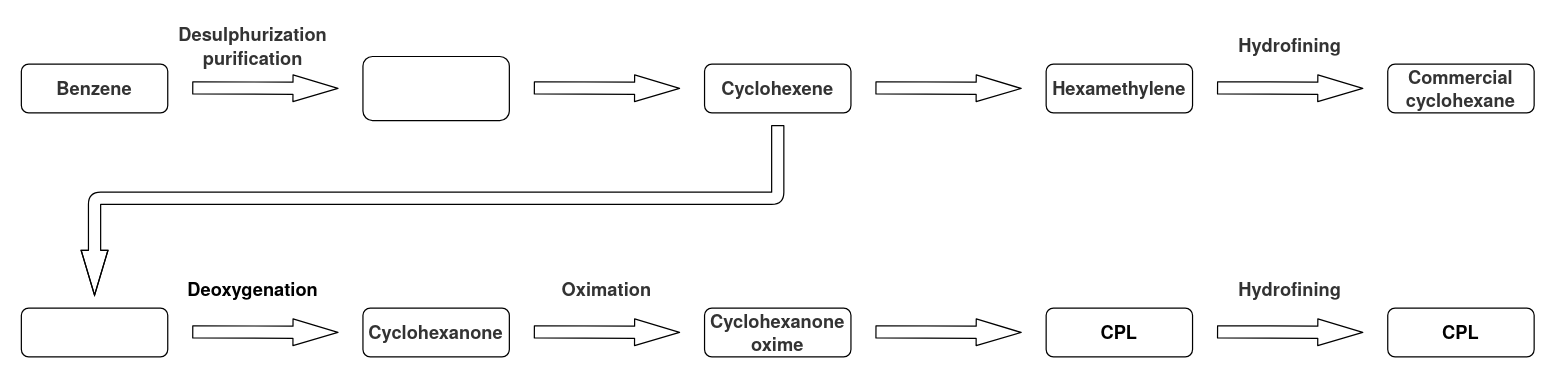
Image size: 1556x378. Some labels were removed from this diagram. The box of each missing label's shape, as (x1, y1, x2, y2) in pixels:
Cyclohexanol: (20, 307, 168, 357)
Phenyl sulfide removal: (362, 55, 509, 121)
